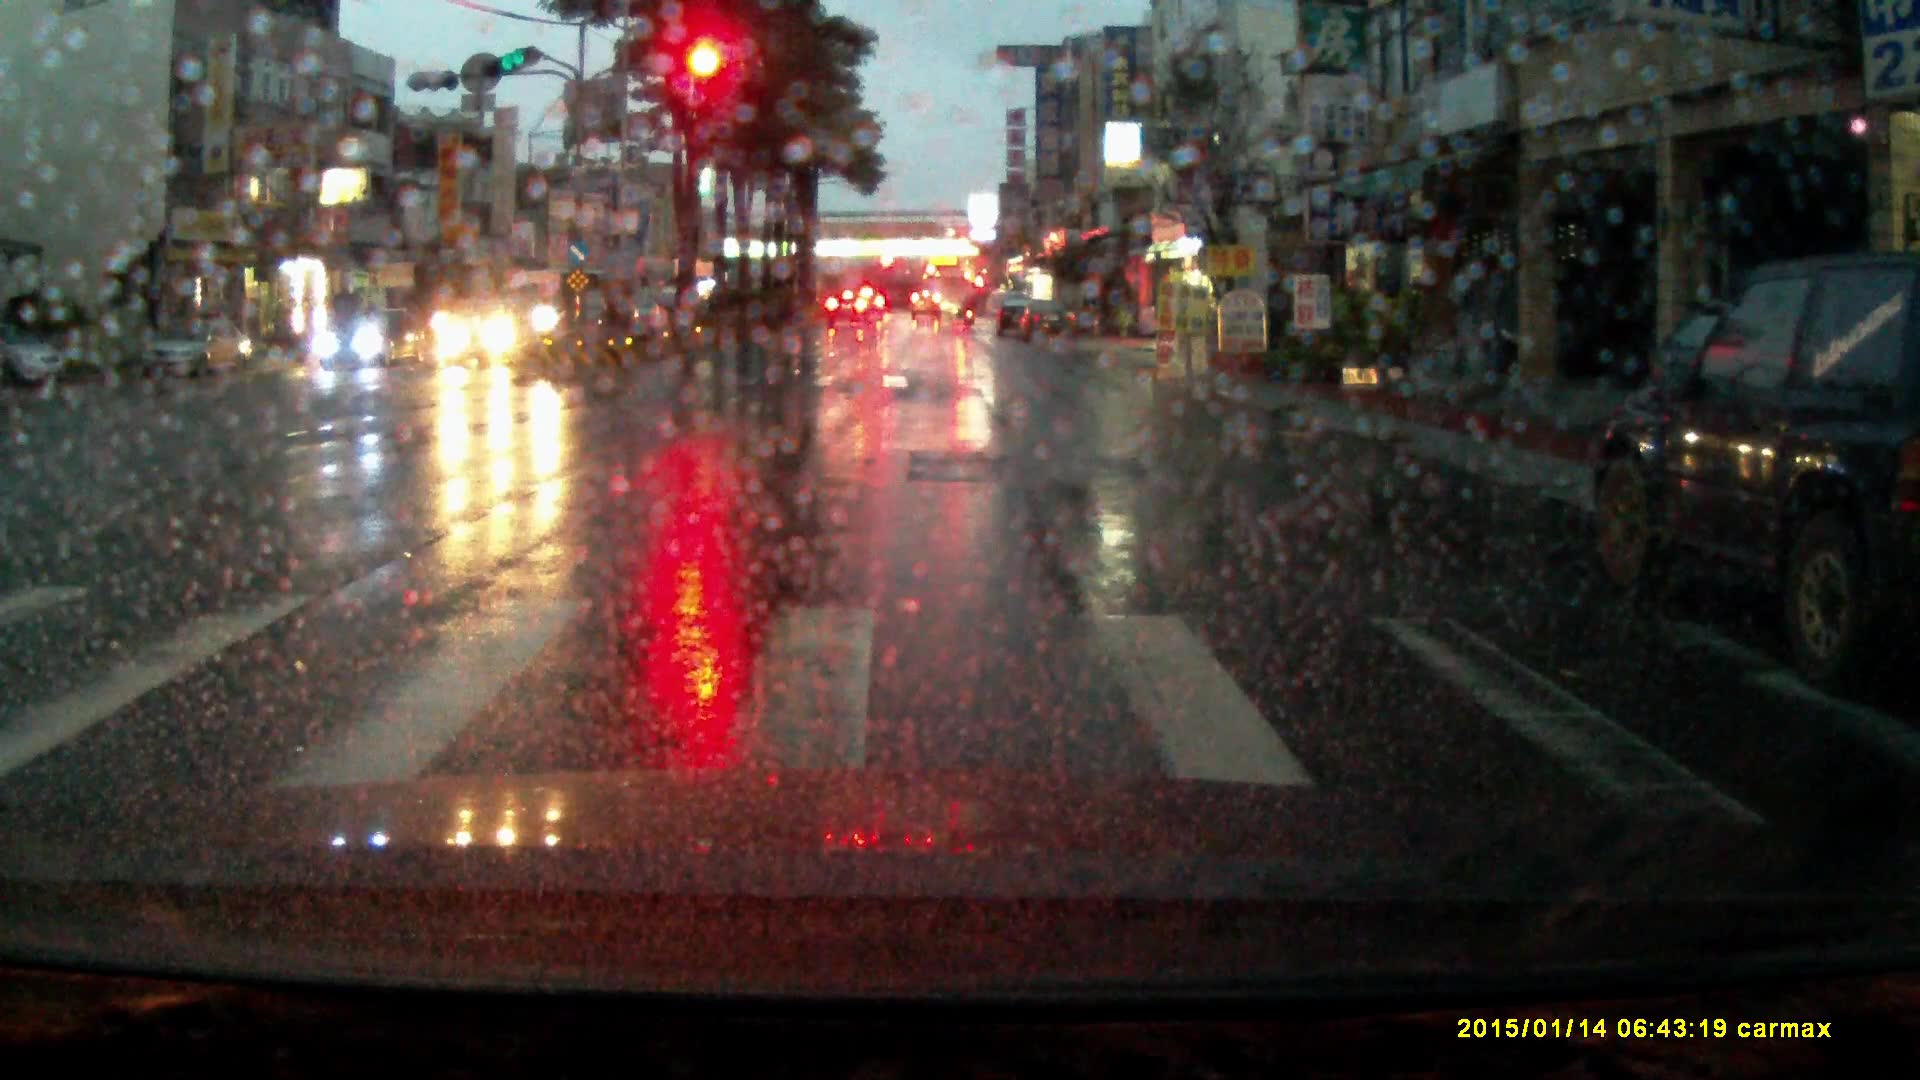rider: (960, 291, 980, 329)
vehicle: (1582, 248, 1920, 683), (431, 298, 546, 370), (315, 307, 427, 376), (142, 314, 253, 380), (494, 268, 591, 341), (574, 288, 664, 340), (1, 331, 69, 389), (1017, 300, 1079, 346), (931, 264, 973, 321), (827, 291, 868, 329), (995, 295, 1030, 338), (857, 286, 887, 321), (911, 291, 943, 322)
